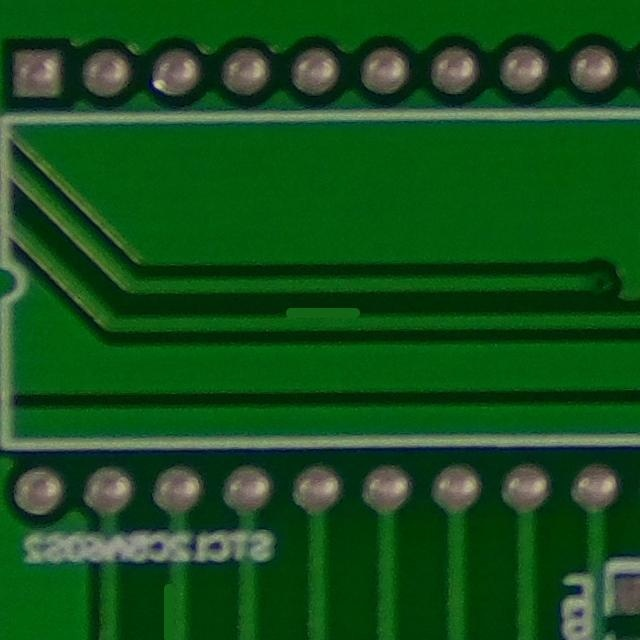spur: (258, 294, 383, 345)
